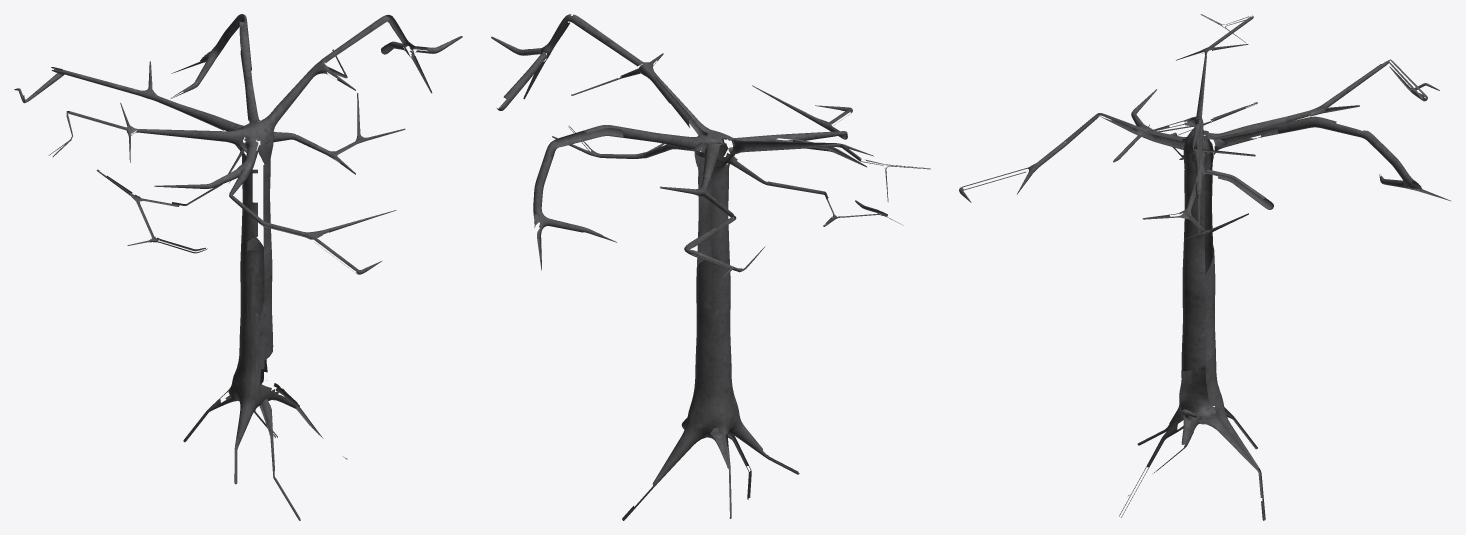
The model's file is tree_01.fbx.
3 views of the same model, side by side, from view 1: azimuth 30°, elevation 25°; view 2: azimuth 150°, elevation 25°; view 3: azimuth 270°, elevation 25° (orthographic). The views are drawn at different scales.
Parts seen in each view (by area): view 1: tree_01; view 2: tree_01; view 3: tree_01.
Part boxes in pixels (left/top/right/bottom): tree_01: left=14, top=14, right=462, bottom=520; tree_01: left=491, top=14, right=930, bottom=520; tree_01: left=959, top=14, right=1451, bottom=520.
Bounding box in the file's own units: 819 × 855 × 827.
